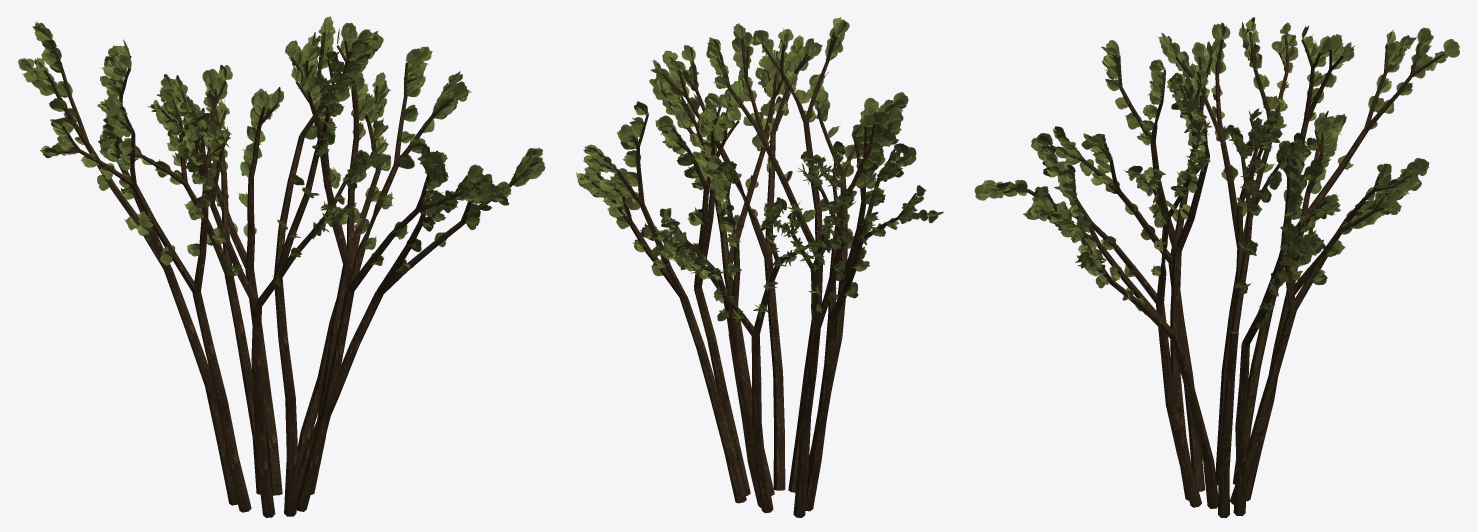
File: hazel_coppice_v02.glb
The picture shows the model from 3 angles, left to right: view 1: azimuth 30°, elevation 25°; view 2: azimuth 150°, elevation 25°; view 3: azimuth 270°, elevation 25°; orthographic projection. The views are drawn at different scales.
Visible parts, largest first — view 1: hazel_coppice_v02; view 2: hazel_coppice_v02; view 3: hazel_coppice_v02.
Part boxes in pixels (x1,y1,x2,y2): hazel_coppice_v02: (18,16,545,517); hazel_coppice_v02: (576,17,943,517); hazel_coppice_v02: (974,17,1459,517).
Size of the model in its own units: 4.23 by 4.74 by 4.58.
Materials: 2 (2 with a texture image).
